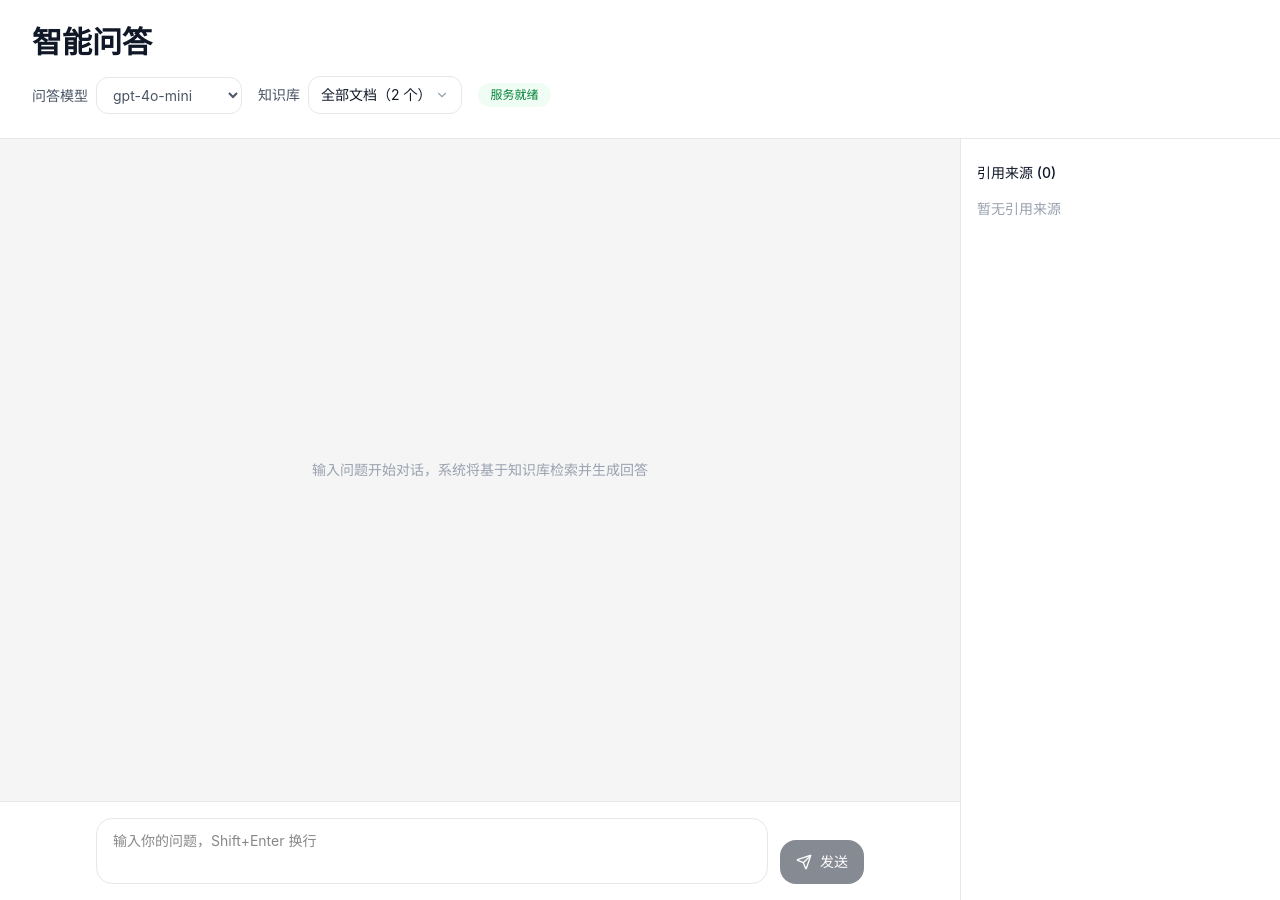
ChatPage › 清空文档选择后禁用输入与发送
This screenshot has width=1280, height=900.
Click the button "全部文档（2 个）".
click(385, 95)  # box [308,76,462,114]
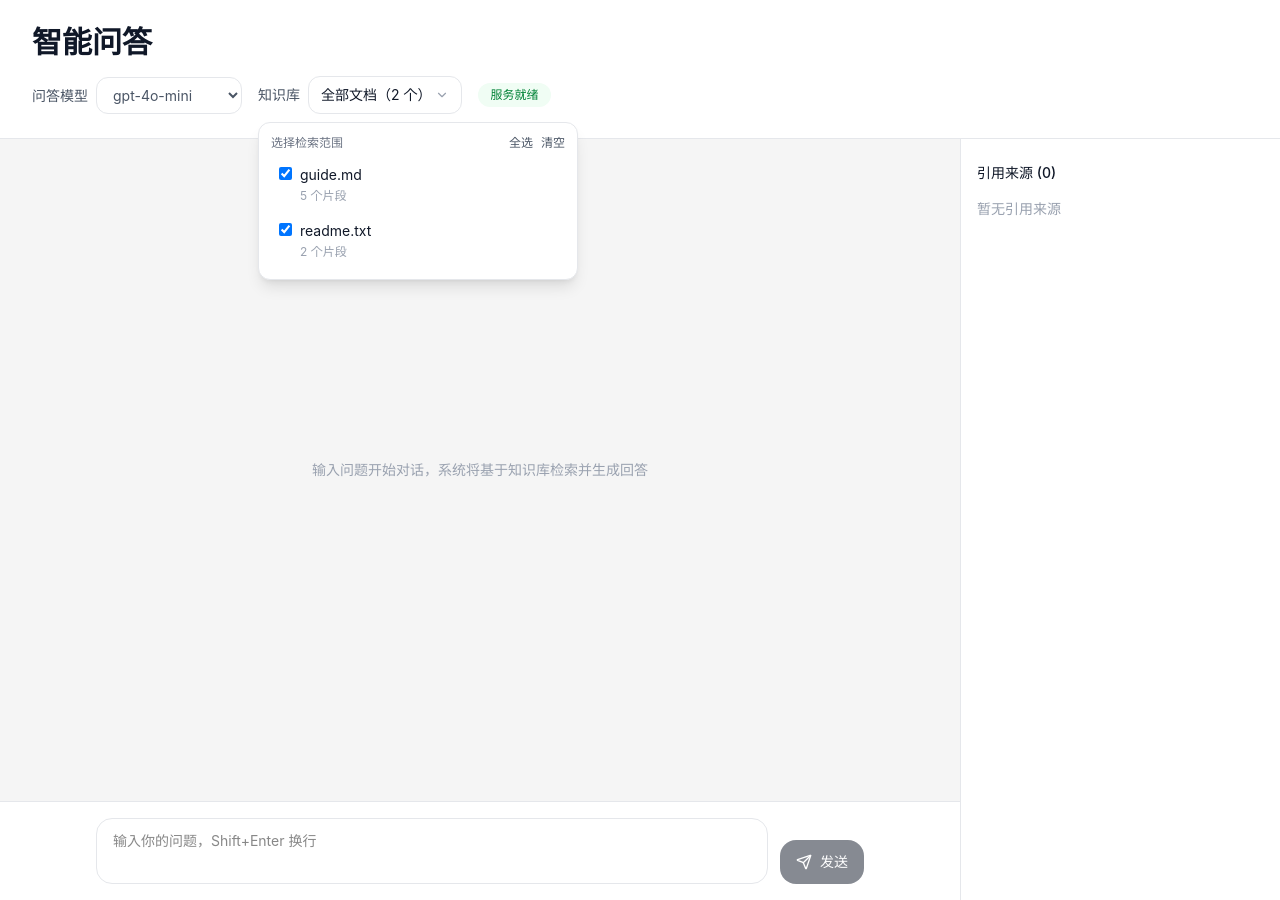
Click the button "清空".
click(553, 143)  # box [541,135,565,151]
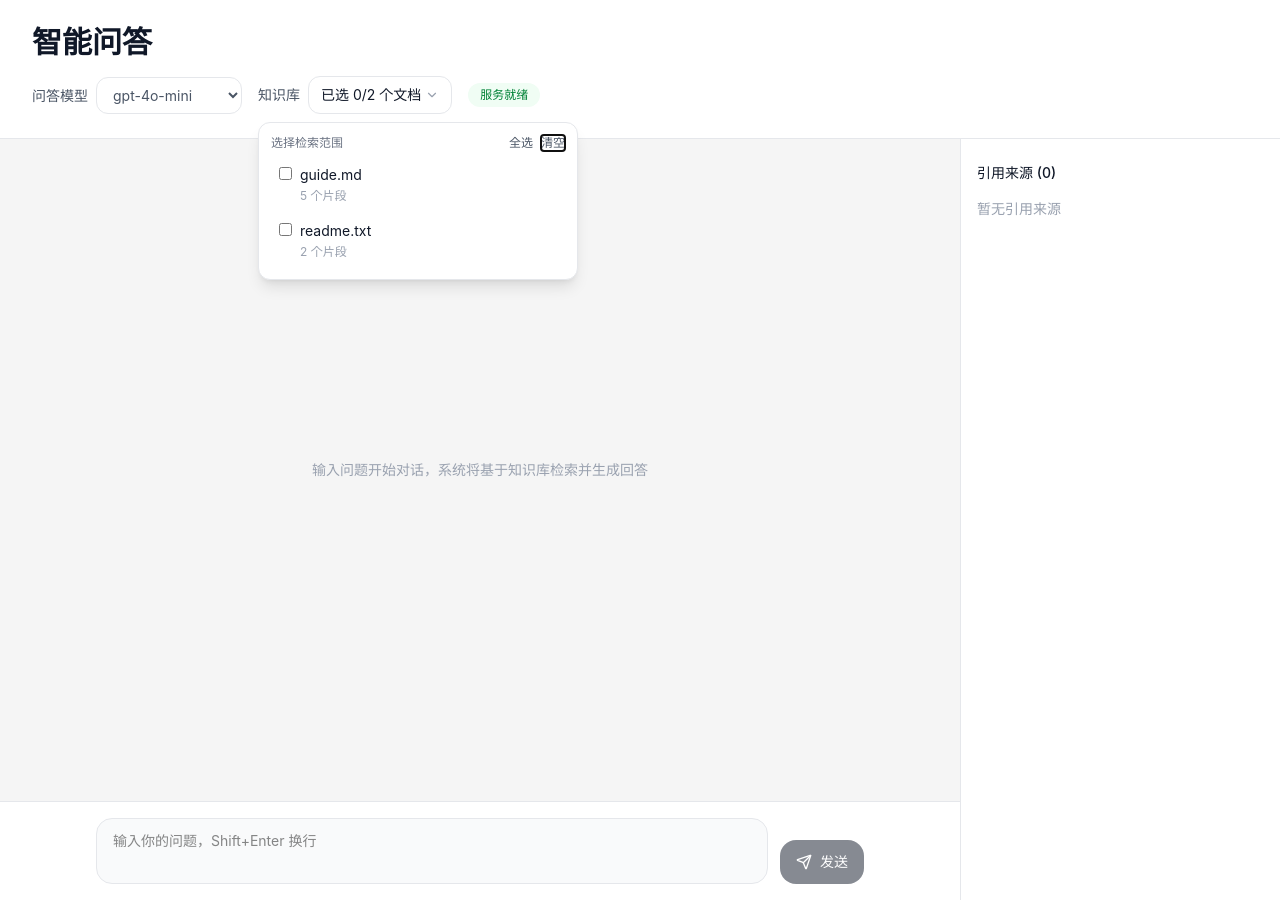
expect the text box with placeholder "输入你的问题，Shift+Enter 换行" is disabled: met, box [96,818,768,884]
expect the button "已选 0/2 个文档" is shown: met, box [308,76,452,114]
